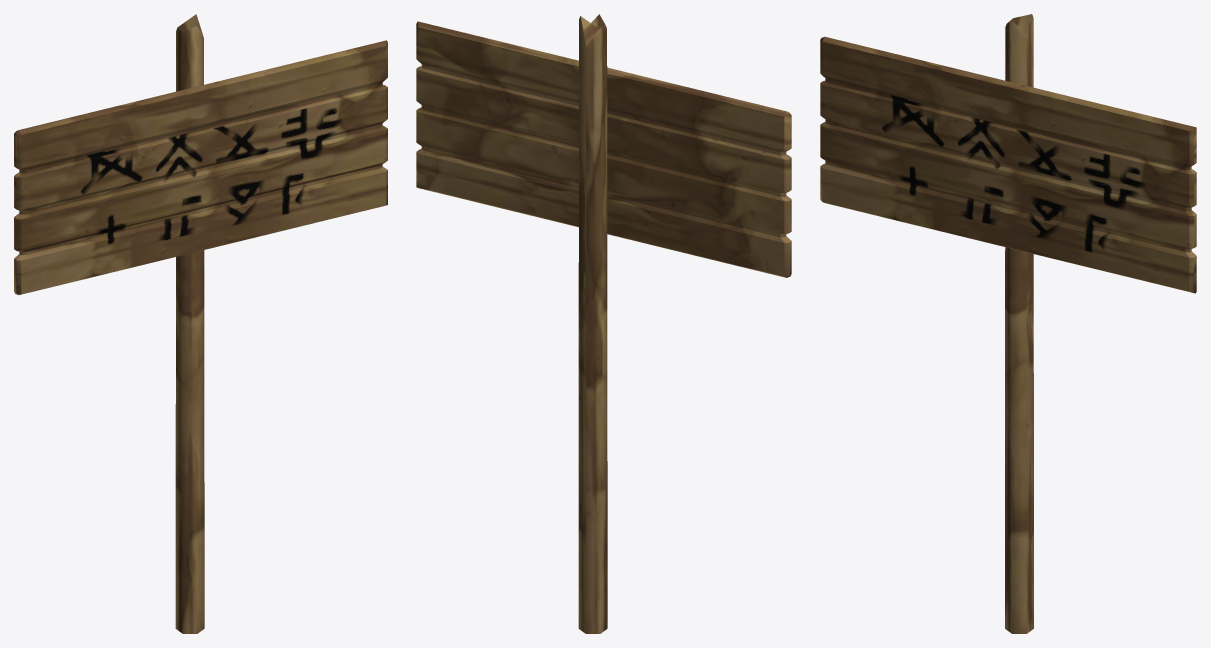
The model's file is Tablo.fbx.
3 renders of one model, left to right at view 1: azimuth 30°, elevation 25°; view 2: azimuth 150°, elevation 25°; view 3: azimuth 330°, elevation 25°, orthographic.
Parts seen in each view (by area): view 1: Tablo; view 2: Tablo; view 3: Tablo.
Boxes of the visible parts, left/top/right/bottom form: Tablo: left=14, top=14, right=387, bottom=633; Tablo: left=416, top=14, right=791, bottom=633; Tablo: left=820, top=14, right=1196, bottom=633.
Bounding box in the file's own units: 293 × 460 × 28.31.
Materials: 1 (1 with a texture image).
